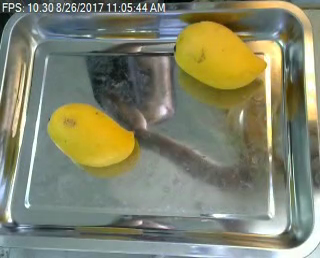Mango: (43, 100, 144, 175), (168, 20, 270, 90)
